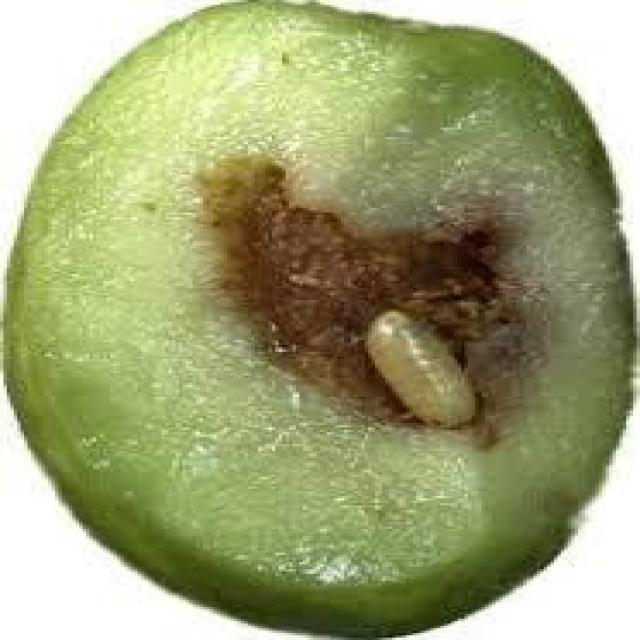Anthracnose: (7, 0, 633, 635)
